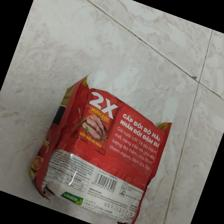3mien: (27, 73, 174, 224)
